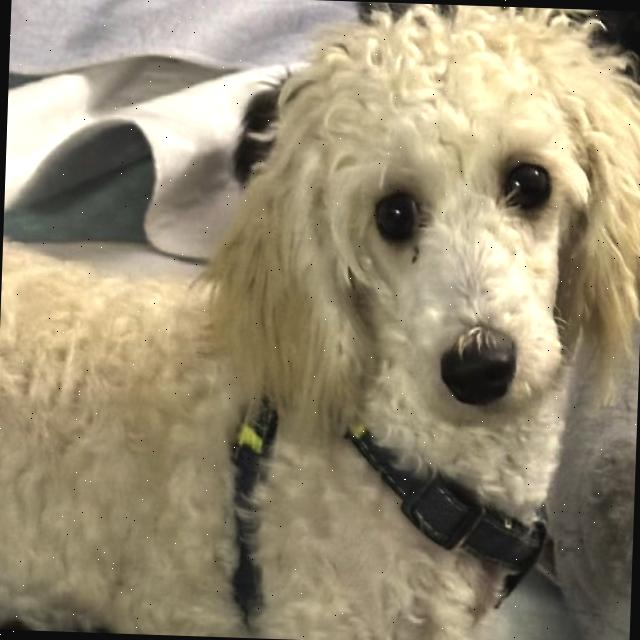Poodle_dog: (173, 0, 640, 464)
